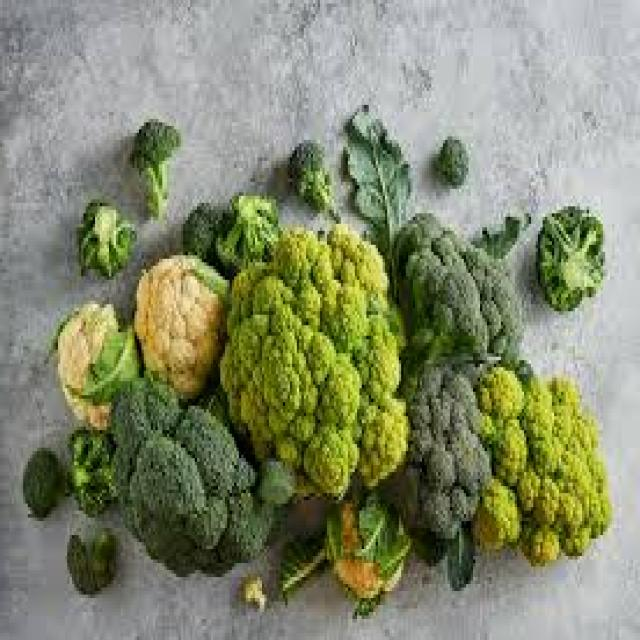broccoli: (386, 204, 504, 588), (84, 393, 264, 601), (173, 140, 334, 262), (66, 123, 186, 286), (18, 415, 114, 614), (521, 195, 611, 342), (431, 128, 483, 192)
ginger: (224, 199, 410, 497), (493, 370, 628, 576), (141, 247, 238, 400), (48, 288, 135, 443)
